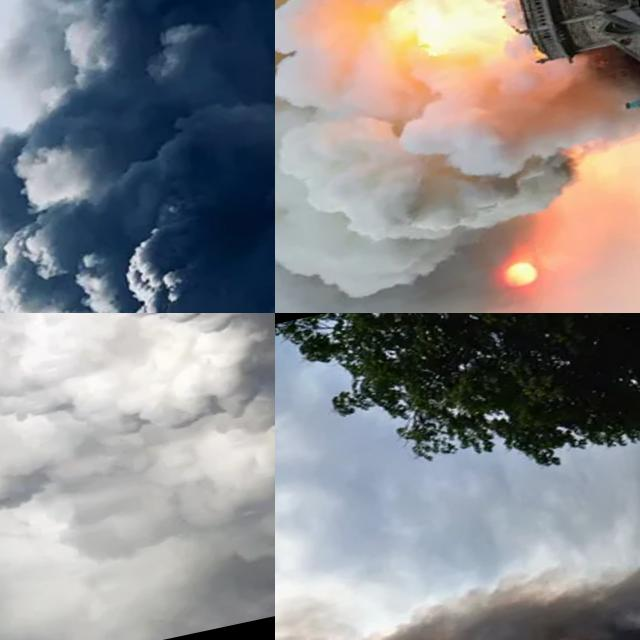smoke: (275, 0, 640, 313), (0, 313, 275, 640), (0, 0, 275, 313), (275, 528, 640, 640)
